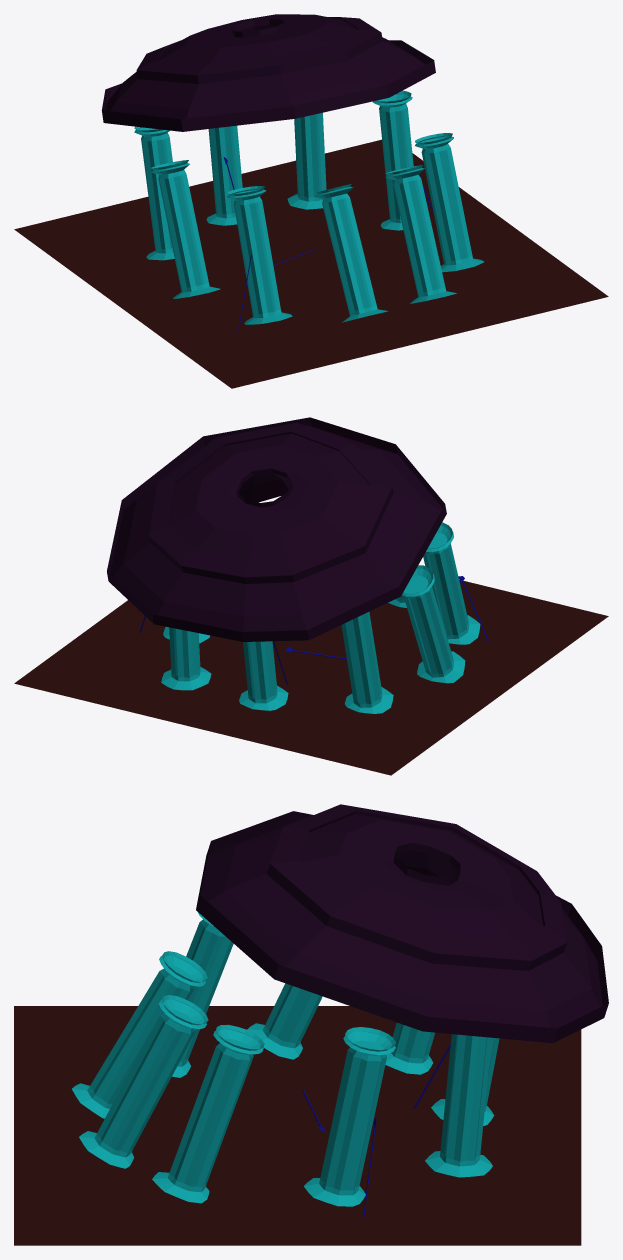
Rendered from SpearYard1d.obj.
3 renders of one model, top to bottom at view 1: azimuth 30°, elevation 25°; view 2: azimuth 150°, elevation 25°; view 3: azimuth 270°, elevation 25°, orthographic. The views are drawn at different scales.
Visible parts, largest first — view 1: Plane, Plane.012_Plane.013, Plane.005_Plane.016, Plane.001_Plane.012, Plane.002, Plane.004_Plane.015, Plane.003_Plane.014, Plane.006_Plane.017, Plane.007_Plane.018, Plane.009_Plane.020, Plane.008_Plane.019; view 2: Plane.012_Plane.013, Plane, Plane.002, Plane.001_Plane.012, Plane.009_Plane.020, Plane.008_Plane.019, Plane.007_Plane.018; view 3: Plane, Plane.012_Plane.013, Plane.006_Plane.017, Plane.004_Plane.015, Plane.005_Plane.016, Plane.007_Plane.018, Plane.003_Plane.014, Plane.002, Plane.001_Plane.012, Plane.009_Plane.020, Plane.008_Plane.019.
Boxes of the visible parts, x1,y1,x2,y2 form: Plane: (14,139,608,388); Plane.012_Plane.013: (101,14,435,131); Plane.005_Plane.016: (415,133,484,272); Plane.001_Plane.012: (227,186,292,324); Plane.002: (151,160,220,298); Plane.004_Plane.015: (385,165,456,303); Plane.003_Plane.014: (314,184,388,322); Plane.006_Plane.017: (372,90,413,230); Plane.007_Plane.018: (287,112,326,209); Plane.009_Plane.020: (134,126,174,260); Plane.008_Plane.019: (206,125,242,225); Plane.012_Plane.013: (107,417,446,641); Plane: (14,580,608,775); Plane.002: (402,565,465,683); Plane.001_Plane.012: (423,522,480,644); Plane.009_Plane.020: (341,612,393,713); Plane.008_Plane.019: (239,641,288,710); Plane.007_Plane.018: (161,627,211,690); Plane: (14,1006,581,1245); Plane.012_Plane.013: (196,804,608,1043); Plane.006_Plane.017: (304,1027,395,1206); Plane.004_Plane.015: (79,995,208,1168); Plane.005_Plane.016: (152,1024,264,1203); Plane.007_Plane.018: (425,1034,492,1177); Plane.003_Plane.014: (72,951,207,1118); Plane.002: (247,983,322,1059); Plane.001_Plane.012: (172,912,233,1077); Plane.009_Plane.020: (385,1022,434,1074); Plane.008_Plane.019: (431,1037,499,1125).
Bounding box in the file's own units: 1.31 × 0.7268 × 1.37.
